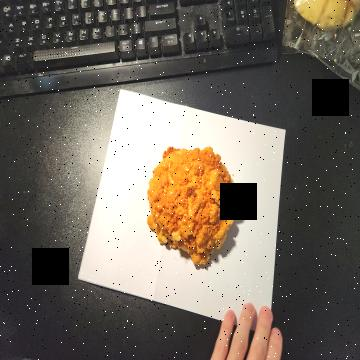soboru_bread: (143, 144, 237, 274)
